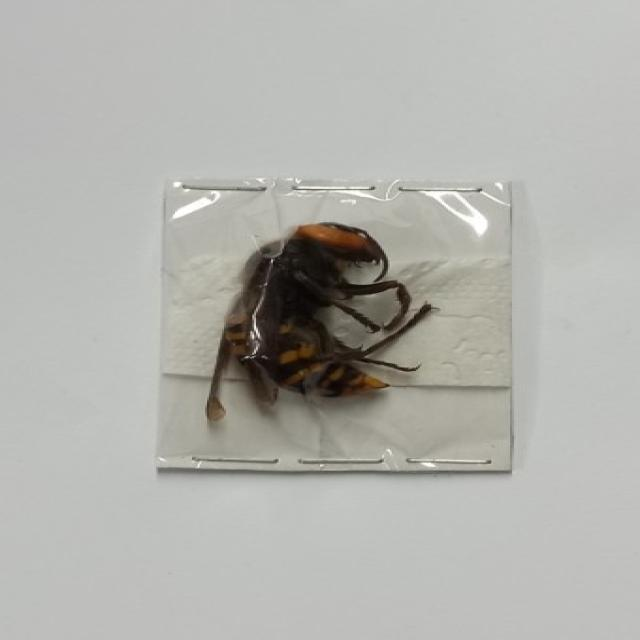Wasp: (221, 207, 441, 423)
